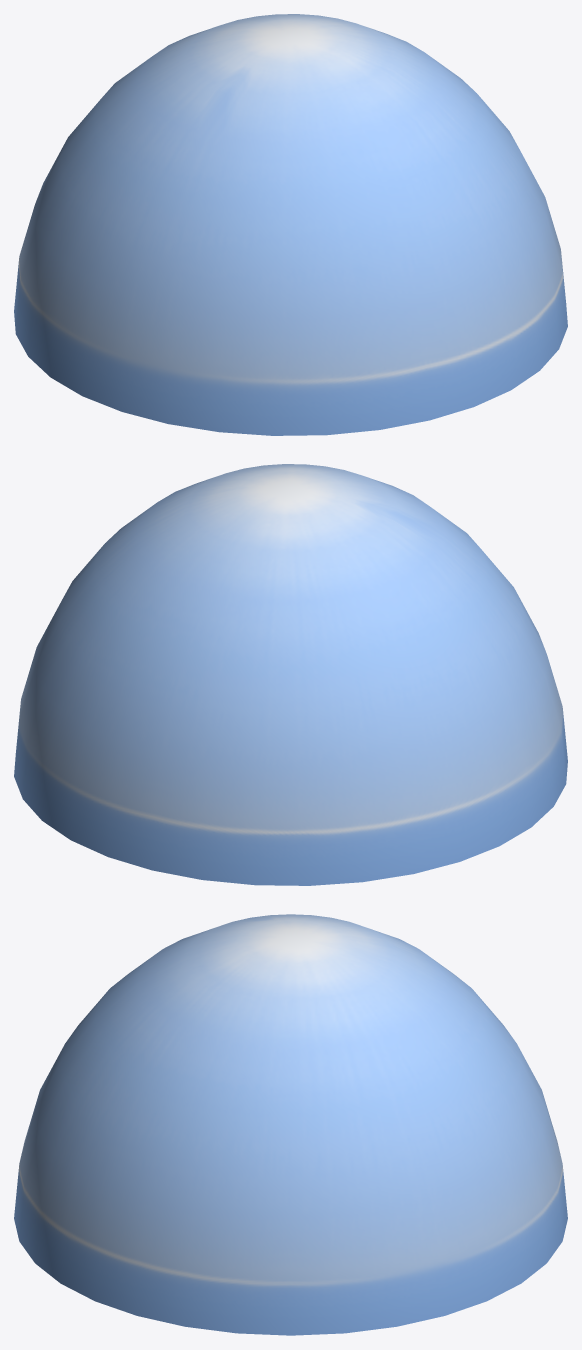
The model's file is banqiu1.FBX.
3 renders of one model, top to bottom at view 1: azimuth 30°, elevation 25°; view 2: azimuth 150°, elevation 25°; view 3: azimuth 270°, elevation 25°, orthographic.
Visible parts, largest first — view 1: Sphere001; view 2: Sphere001; view 3: Sphere001.
Part boxes in pixels (box(x1,y1,x2,y2)): Sphere001: box(14, 14, 567, 435); Sphere001: box(14, 464, 567, 885); Sphere001: box(14, 914, 567, 1335).
Size of the model in its own units: 3.42 by 3.42 by 1.92.
